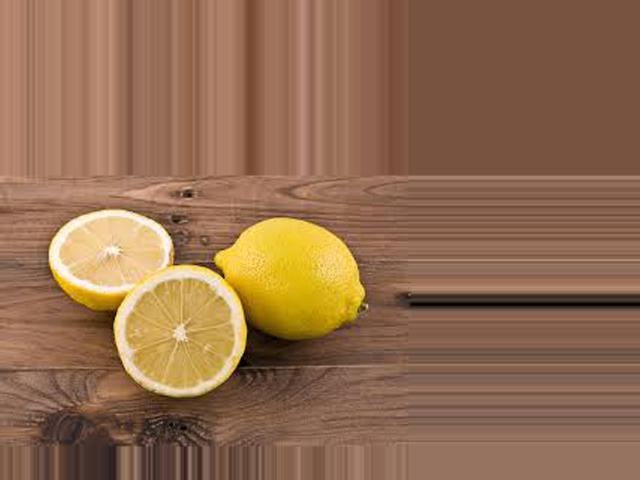lemon: (212, 201, 356, 342)
